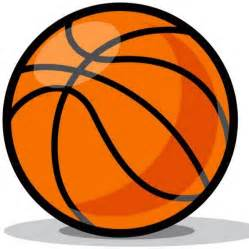basketball: (1, 1, 240, 239)
